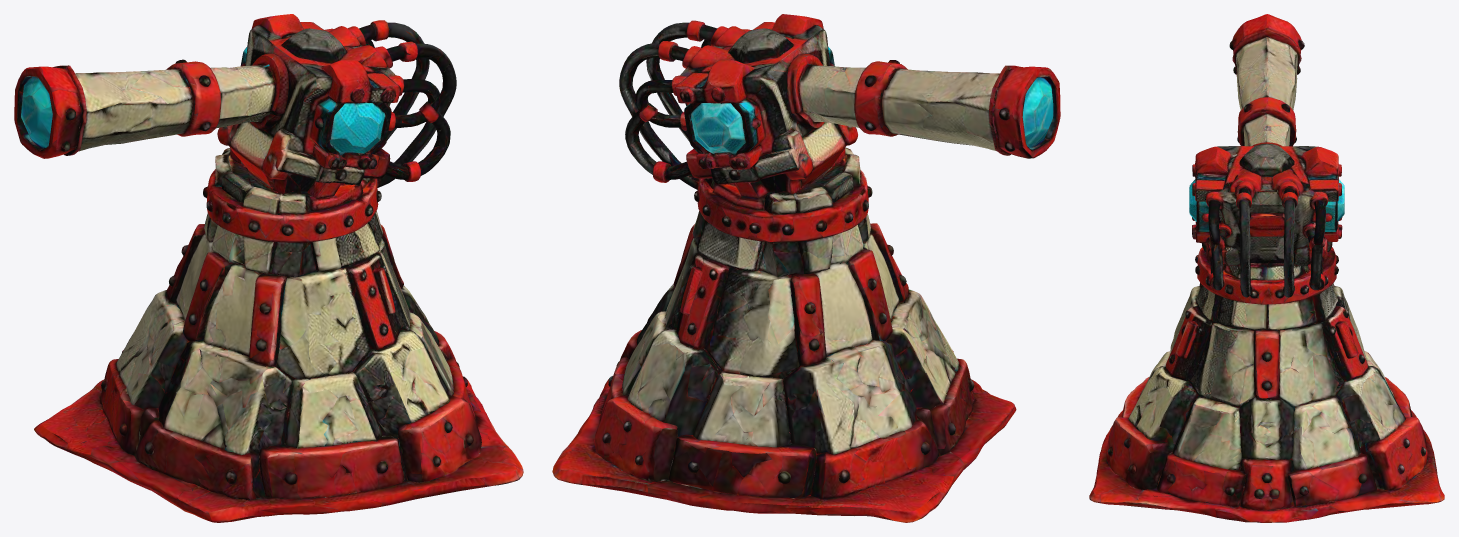
Rendered from inkline_tower.glb.
3 views of the same model, side by side, from view 1: azimuth 30°, elevation 25°; view 2: azimuth 150°, elevation 25°; view 3: azimuth 270°, elevation 25° (orthographic). The views are drawn at different scales.
Size of the model in its own units: 1.9 by 1.76 by 1.65.
1 material, 1 textured.
